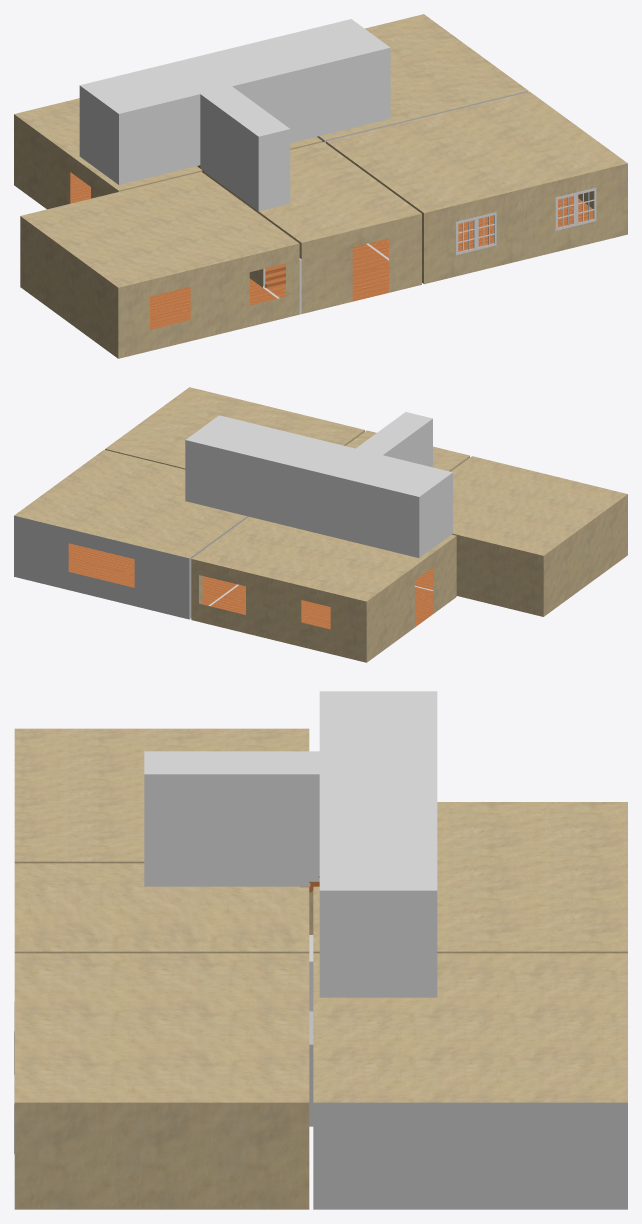
The model's file is Haunted House Prototype V4.fbx.
3 views of the same model, one above another, from view 1: azimuth 30°, elevation 25°; view 2: azimuth 150°, elevation 25°; view 3: azimuth 270°, elevation 25° (orthographic). The views are drawn at different scales.
Parts seen in each view (by area): view 1: Hallway, Living Room_Ceiling, Dining Room_Walls, Dining Room_Ceiling, Living Room_Walls, Family Room_Ceiling, Foyer_Ceiling, Foyer_Walls, KitchenNook_Walls, KitchenNook_Ceiling, Foyer_Floor, Dining Room_Floor (+3 smaller); view 2: Hallway, KitchenNook_Walls, Family Room_Ceiling, Dining Room_Ceiling, Dining Room_Walls, KitchenNook_Ceiling, Family Room_Walls, Living Room_Ceiling, Family Room_Floor, KitchenNook_Floor, Foyer_Ceiling; view 3: Hallway, Living Room_Ceiling, Family Room_Ceiling, Family Room_Walls, Living Room_Walls, KitchenNook_Ceiling, Foyer_Ceiling, Dining Room_Ceiling, FirstToSecond, Foyer_Walls.
Boxes of the visible parts, x1,y1,x2,y2 form: Hallway: (79,19,390,210); Living Room_Ceiling: (326,91,627,212); Dining Room_Walls: (20,216,299,358); Dining Room_Ceiling: (21,172,298,287); Living Room_Walls: (326,141,627,284); Family Room_Ceiling: (319,14,527,140); Foyer_Ceiling: (259,142,421,242); Foyer_Walls: (203,171,421,313); KitchenNook_Walls: (14,114,322,209); KitchenNook_Ceiling: (14,98,321,190); Foyer_Floor: (266,244,388,301); Dining Room_Floor: (150,278,276,329); Hallway: (185,412,452,557); KitchenNook_Walls: (191,536,456,662); Family Room_Ceiling: (14,450,246,558); Dining Room_Ceiling: (451,456,627,555); Dining Room_Walls: (452,494,627,616); KitchenNook_Ceiling: (191,516,456,601); Family Room_Walls: (14,515,248,619); Living Room_Ceiling: (105,387,364,468); Family Room_Floor: (68,543,236,605); KitchenNook_Floor: (210,585,432,629); Foyer_Ceiling: (346,430,469,471); Hallway: (144,691,437,997); Living Room_Ceiling: (14,953,309,1102); Family Room_Ceiling: (313,953,627,1102); Family Room_Walls: (313,1102,627,1209); Living Room_Walls: (14,1102,309,1209); KitchenNook_Ceiling: (313,802,627,951); Foyer_Ceiling: (14,863,309,951); Dining Room_Ceiling: (14,728,309,861); FirstToSecond: (144,881,310,886); Foyer_Walls: (14,951,309,953).
Size of the model in its own units: 2250 by 615 by 1562.
